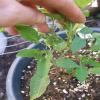Tomato leaf: (26, 70, 56, 99), (13, 23, 41, 44), (53, 57, 80, 71), (12, 45, 36, 60), (73, 65, 90, 85), (68, 37, 89, 53), (37, 57, 50, 80), (83, 58, 99, 68)
